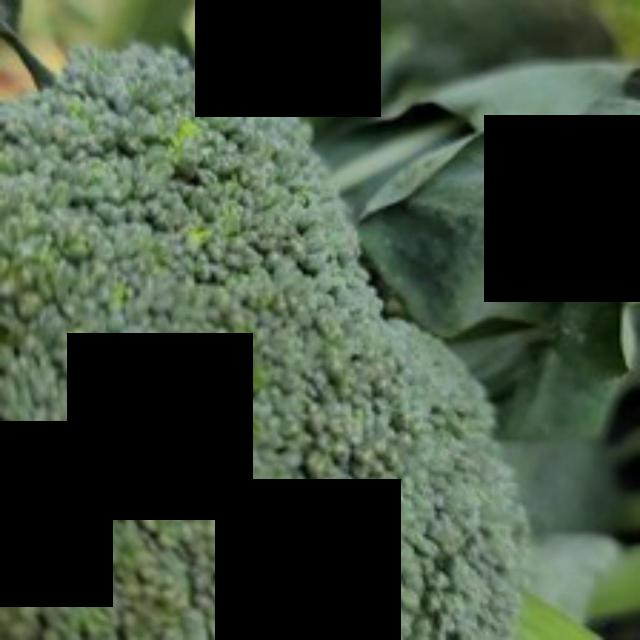broccoli: (0, 51, 548, 637)
